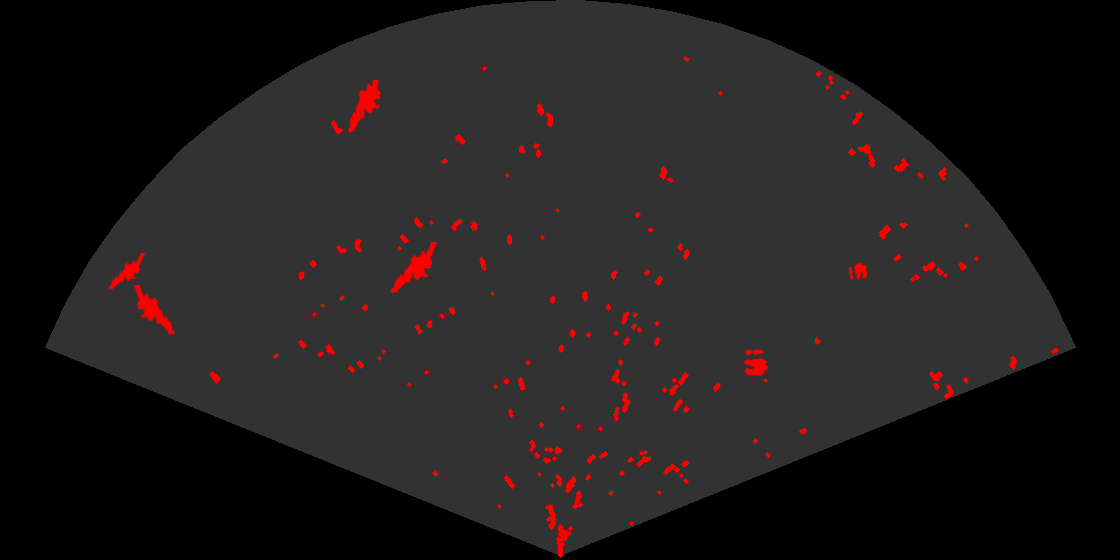ball: (742, 348, 770, 377), (847, 261, 869, 282)
frogman: (132, 285, 178, 344), (389, 242, 439, 296), (346, 80, 383, 135), (106, 253, 147, 297)
